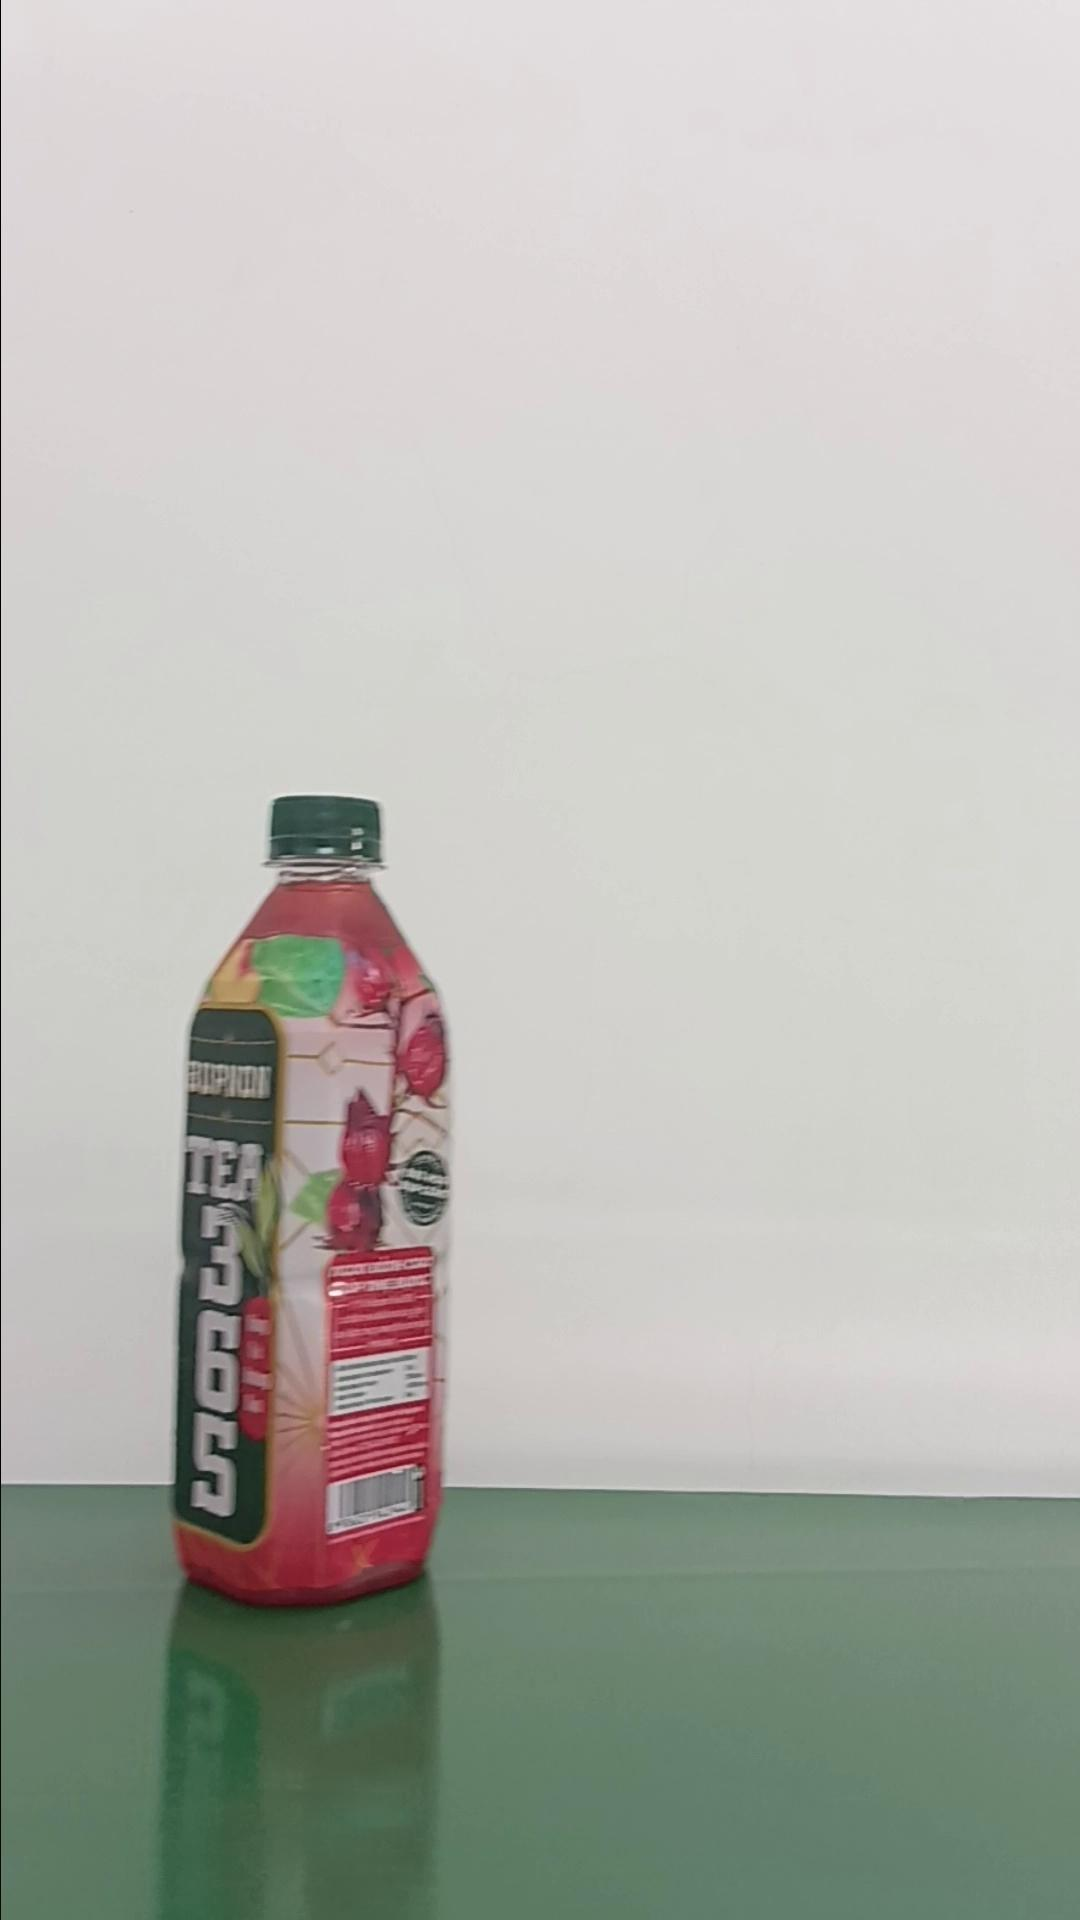khong loi: (169, 793, 454, 1607)
